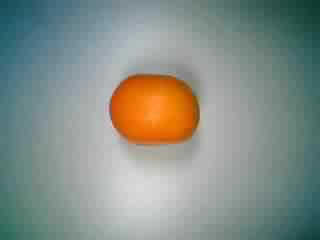orange: (102, 70, 203, 152)
